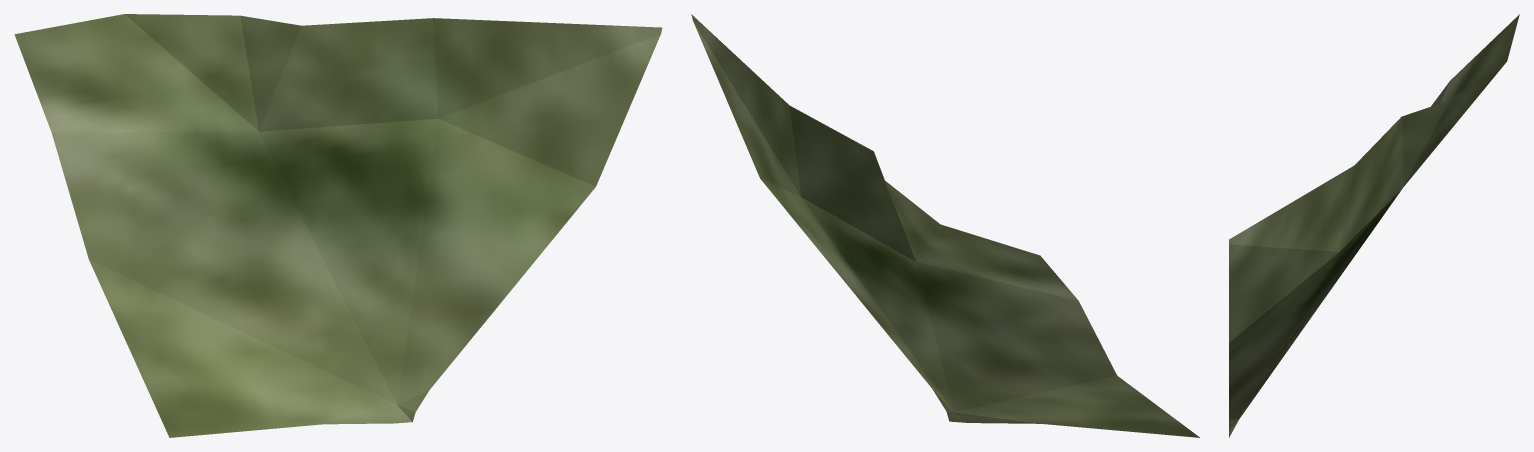
3 views of the same model, side by side, from view 1: azimuth 30°, elevation 25°; view 2: azimuth 150°, elevation 25°; view 3: azimuth 270°, elevation 25° (orthographic). The views are drawn at different scales.
Size of the model in its own units: 1.12 by 0.7236 by 0.6097.
Materials: 1 (1 with a texture image).
